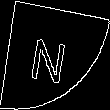N_N: (33, 26, 77, 84)
